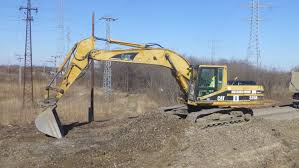excavator: (34, 41, 266, 141)
